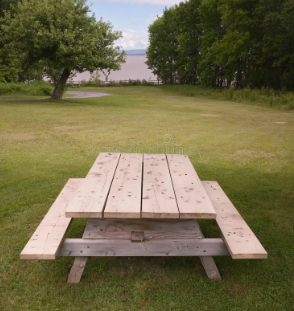obstacle: (16, 146, 269, 296)
